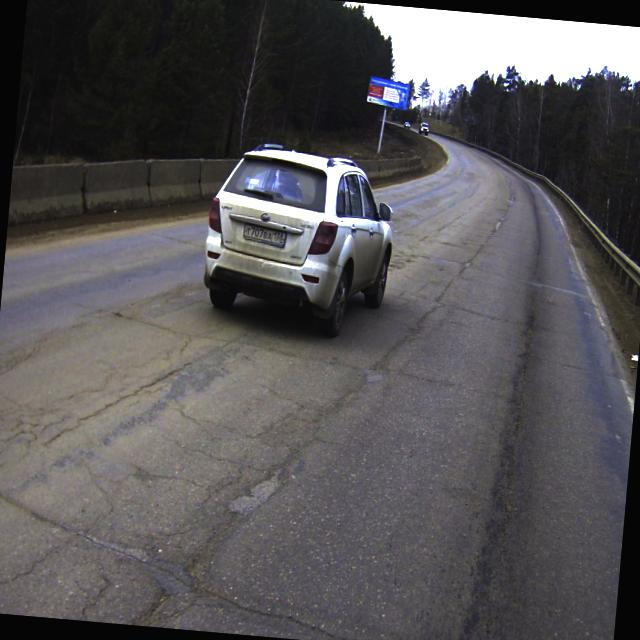road: (0, 134, 632, 640), (417, 131, 418, 132)
